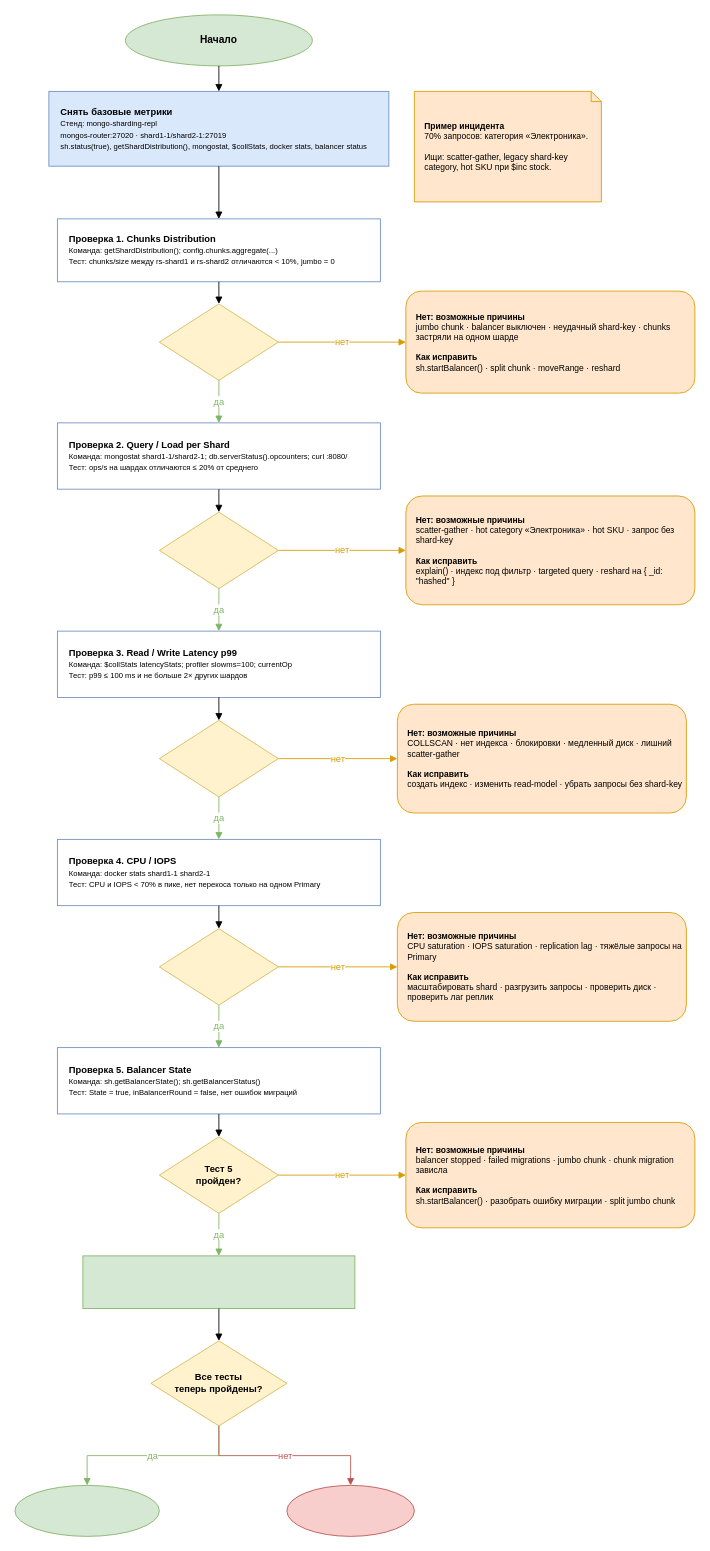
The diagram is 710 pixels wide and 1551 high, and some of its shapes have lost their labels. The box of each missing label's shape, as (x1, y1, x2, y2) in pixels:
Конец SLA восстановлен: (14, 1485, 159, 1536)
Конец эскалация: (286, 1485, 414, 1536)
Повторить снятие метрик и снова пройти 5 тестов: (82, 1255, 355, 1309)
Тест 1 пройден?: (159, 303, 278, 380)
Тест 2 пройден?: (159, 511, 278, 589)
Тест 3 пройден?: (159, 720, 278, 797)
Тест 4 пройден?: (159, 928, 278, 1005)
